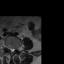CCS_stenosis: (11, 47, 12, 54)
LFS_stenosis: (15, 47, 16, 51)
LLS_stenosis: (12, 47, 14, 52)
RFS_stenosis: (7, 46, 9, 50)
RLS_stenosis: (9, 47, 11, 52)
